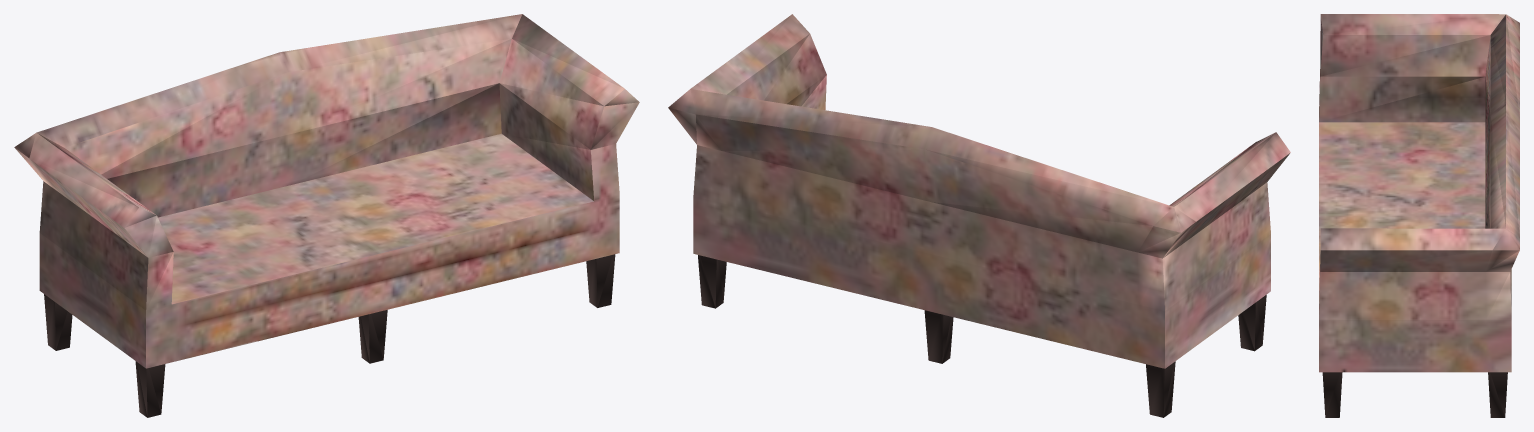
The model's file is sofa_a.glb.
The picture shows the model from 3 angles, left to right: view 1: azimuth 30°, elevation 25°; view 2: azimuth 150°, elevation 25°; view 3: azimuth 270°, elevation 25°; orthographic projection. The views are drawn at different scales.
Parts seen in each view (by area): view 1: sofa_a; view 2: sofa_a; view 3: sofa_a.
Boxes of the visible parts, x1,y1,x2,y2 form: sofa_a: [14, 14, 639, 417]; sofa_a: [668, 14, 1290, 417]; sofa_a: [1319, 14, 1519, 417].
Size of the model in its own units: 2.5 by 1.09 by 0.932.
1 material, 1 textured.
